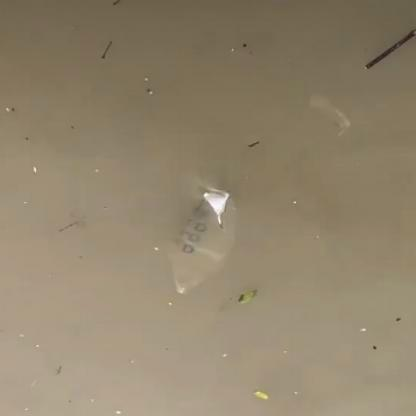Trash: (169, 184, 246, 297)
